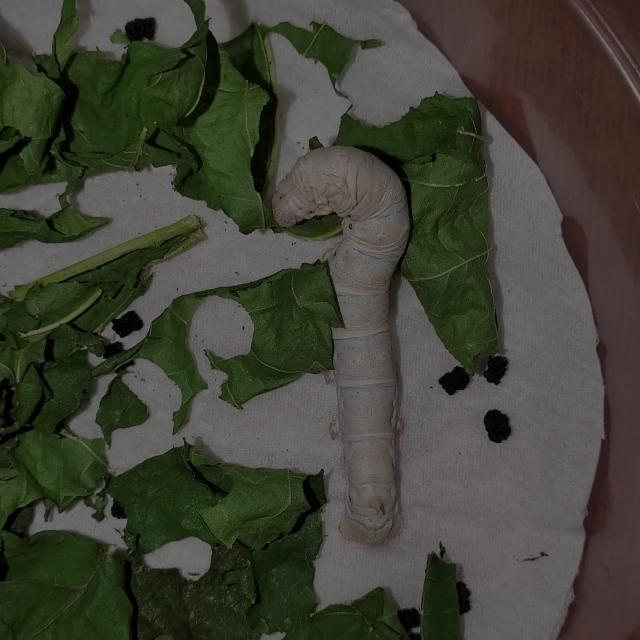Healthy: (264, 138, 422, 544)
